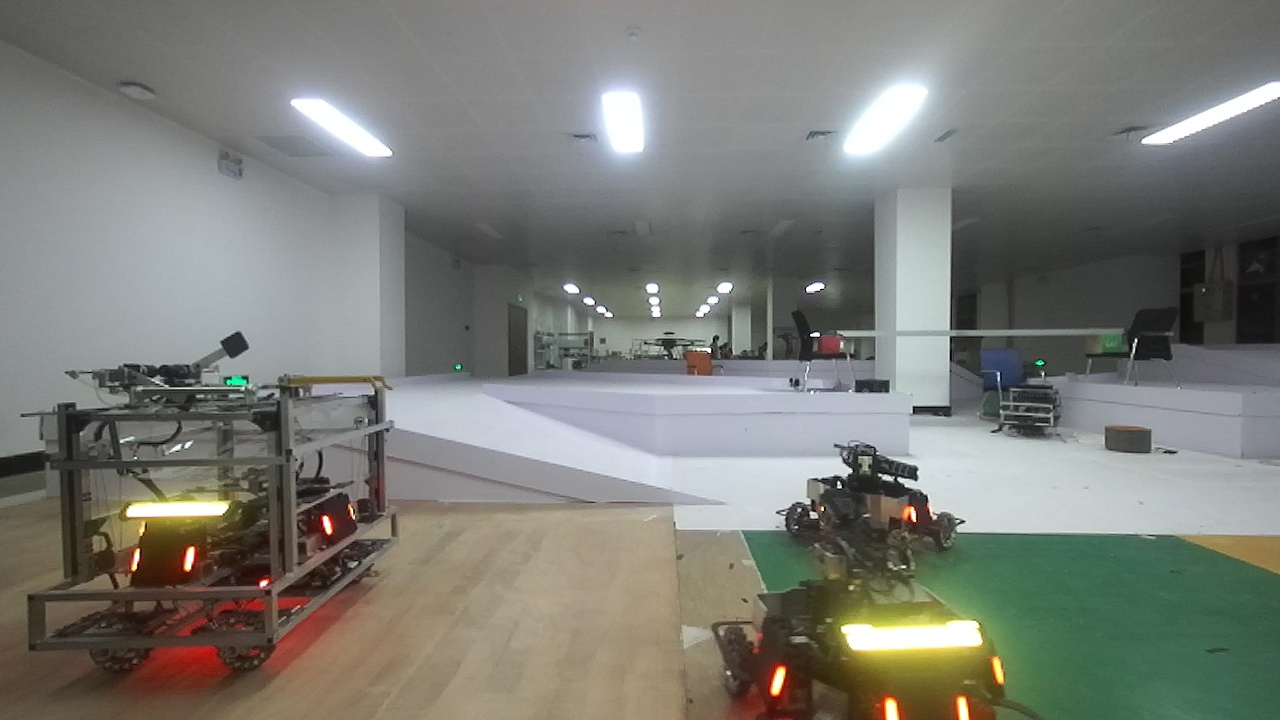car: (11, 347, 403, 682), (682, 564, 1048, 720), (758, 451, 979, 565)
